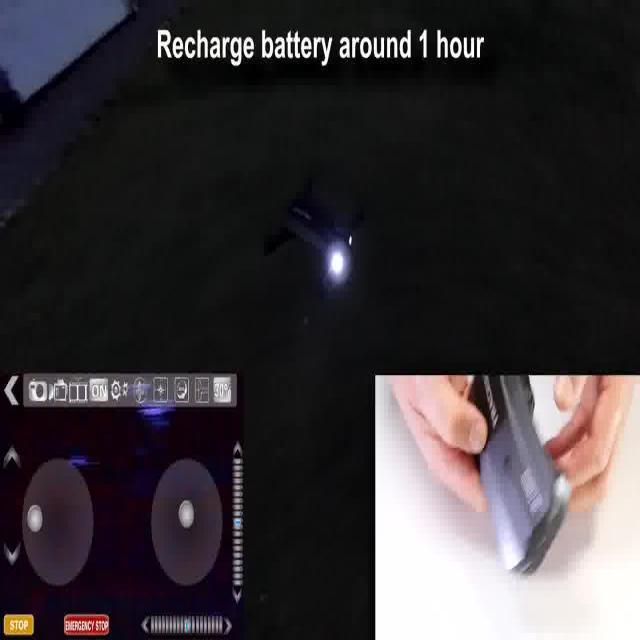drones: (254, 166, 383, 316)
